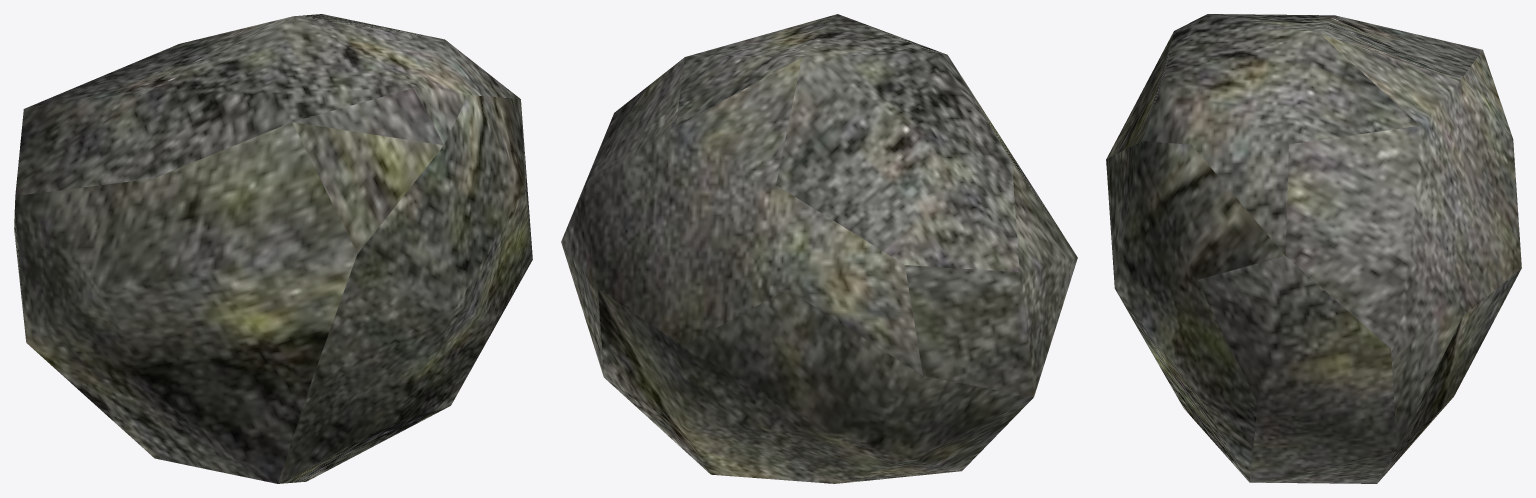
Rendered from PFRrock01.fbx.
3 views of the same model, side by side, from view 1: azimuth 30°, elevation 25°; view 2: azimuth 150°, elevation 25°; view 3: azimuth 270°, elevation 25° (orthographic). The views are drawn at different scales.
Parts seen in each view (by area): view 1: Icosphere; view 2: Icosphere; view 3: Icosphere.
Part boxes in pixels (x1,y1,x2,y2): Icosphere: (14,14,532,483); Icosphere: (561,14,1077,483); Icosphere: (1106,14,1521,483).
Size of the model in its own units: 0.9938 by 0.9037 by 0.7796.
